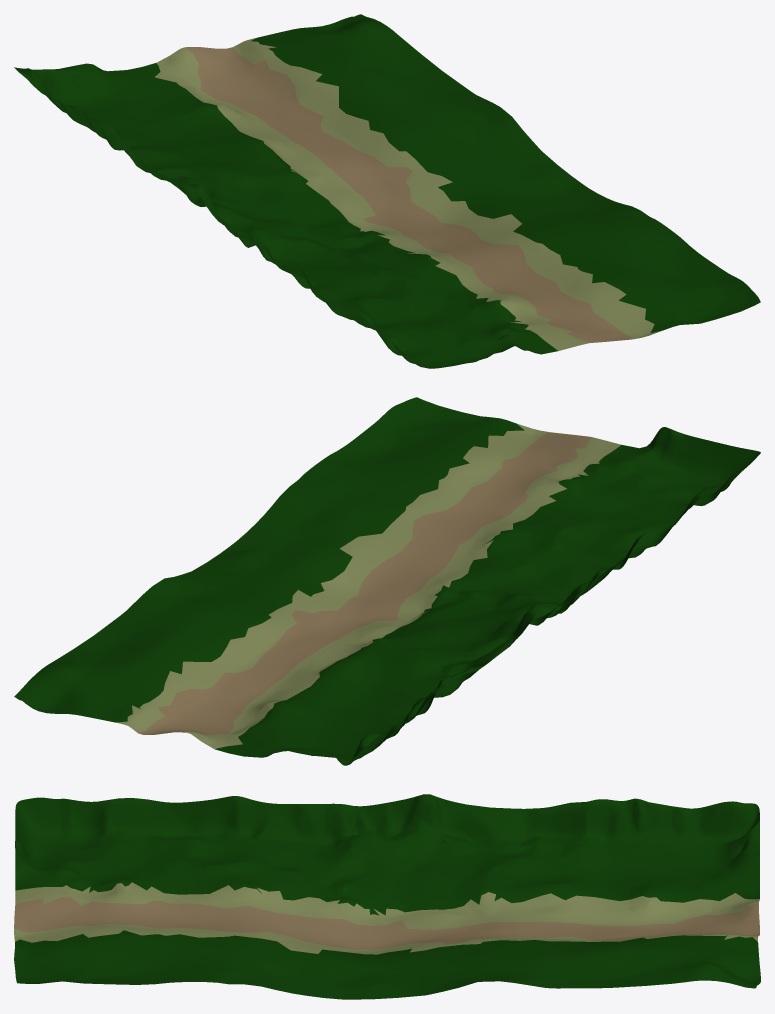
Rendered from Landscape1.fbx.
3 renders of one model, top to bottom at view 1: azimuth 30°, elevation 25°; view 2: azimuth 150°, elevation 25°; view 3: azimuth 270°, elevation 25°, orthographic. The views are drawn at different scales.
Visible parts, largest first — view 1: Landscape.001; view 2: Landscape.001; view 3: Landscape.001.
Boxes of the visible parts, x1=… form: Landscape.001: x1=14, y1=14, x2=760, y2=368; Landscape.001: x1=14, y1=397, x2=760, y2=765; Landscape.001: x1=14, y1=794, x2=760, y2=999.
Bounding box in the file's own units: 2007 × 355 × 4026.
